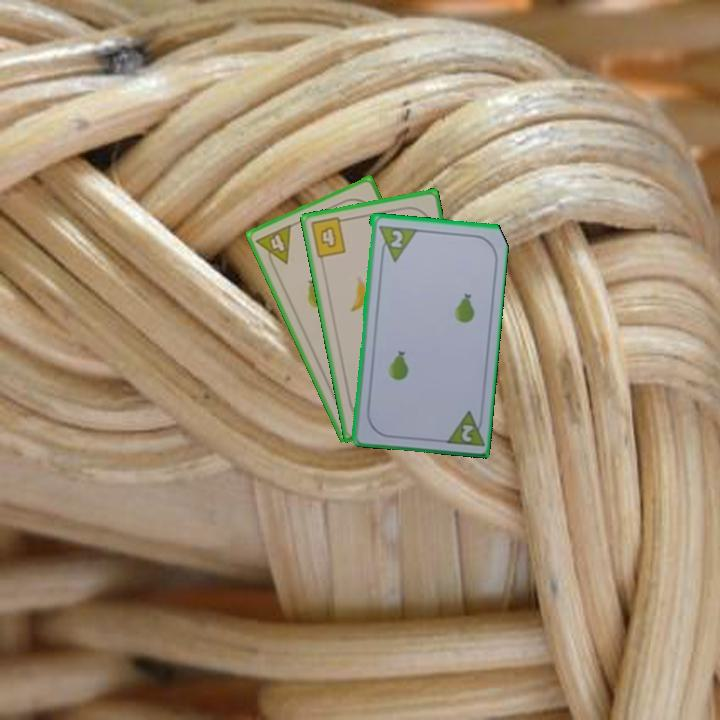2p: (386, 226, 406, 250), (458, 420, 476, 445)
4b: (307, 214, 350, 260)
4p: (252, 221, 294, 272)
